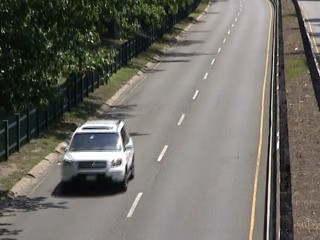car: (53, 115, 142, 199)
